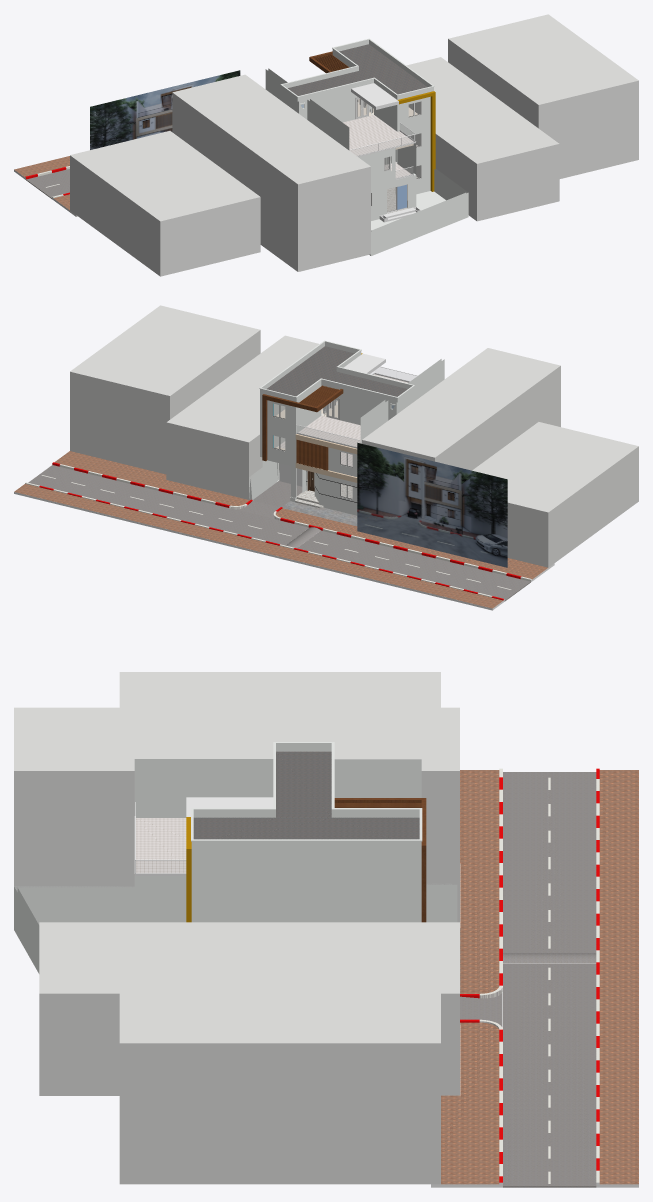
Rendered from house-modern.glb.
The picture shows the model from 3 angles, top to bottom: view 1: azimuth 30°, elevation 25°; view 2: azimuth 150°, elevation 25°; view 3: azimuth 270°, elevation 25°; orthographic projection. The views are drawn at different scales.
Visible parts, largest first — view 1: Mesh100__auto_36_0, Mesh61_M_005_0, Mesh58_Groundcover_Bark_Chips_0, Mesh142_White_Square_Tile_0, Mesh143_Concrete_Aggregate_Smoke_0, Mesh34_Pavers_Driveway_Brick_0, Mesh104_Translucent_Glass_Gray_0, Mesh100__auto_33_0, Mesh11_Wood_Veneer_01_0; view 2: Mesh100__auto_36_0, Mesh61_M_005_0, Mesh143_Concrete_Aggregate_Smoke_0, Mesh34_Pavers_Driveway_Brick_0, Mesh58_Groundcover_Bark_Chips_0, Mesh11_Wood_Veneer_01_0, Mesh142_White_Square_Tile_0, Mesh143_Pavers_Flagstone_Gray_0, Mesh100__auto_33_0, Mesh104_Translucent_Glass_Gray_0, Mesh143_Marble_Carrara_Gold_Floor_Tile_0; view 3: Mesh100__auto_36_0, Mesh143_Concrete_Aggregate_Smoke_0, Mesh34_Pavers_Driveway_Brick_0, Mesh58_Groundcover_Bark_Chips_0, Mesh142_White_Square_Tile_0, Mesh11_Wood_Veneer_01_0.
Boxes of the visible parts, x1,y1,x2,y2 form: Mesh100__auto_36_0: (14,14,638,276); Mesh61_M_005_0: (90,70,240,149); Mesh58_Groundcover_Bark_Chips_0: (288,44,427,95); Mesh142_White_Square_Tile_0: (343,115,417,177); Mesh143_Concrete_Aggregate_Smoke_0: (26,169,69,198); Mesh34_Pavers_Driveway_Brick_0: (14,156,69,209); Mesh104_Translucent_Glass_Gray_0: (358,99,420,211); Mesh100__auto_33_0: (301,104,415,177); Mesh11_Wood_Veneer_01_0: (309,51,349,73); Mesh100__auto_36_0: (14,305,638,610); Mesh61_M_005_0: (357,442,507,567); Mesh143_Concrete_Aggregate_Smoke_0: (28,465,530,601); Mesh34_Pavers_Driveway_Brick_0: (14,451,547,608); Mesh58_Groundcover_Bark_Chips_0: (266,346,407,396); Mesh11_Wood_Veneer_01_0: (262,385,343,470); Mesh142_White_Square_Tile_0: (277,374,408,466); Mesh143_Pavers_Flagstone_Gray_0: (282,501,357,526); Mesh100__auto_33_0: (297,367,416,446); Mesh104_Translucent_Glass_Gray_0: (273,400,352,498); Mesh143_Marble_Carrara_Gold_Floor_Tile_0: (295,484,352,508); Mesh100__auto_36_0: (14,672,638,1187); Mesh143_Concrete_Aggregate_Smoke_0: (460,772,596,1187); Mesh34_Pavers_Driveway_Brick_0: (441,770,638,1184); Mesh58_Groundcover_Bark_Chips_0: (193,751,419,839); Mesh142_White_Square_Tile_0: (136,818,186,873); Mesh11_Wood_Veneer_01_0: (334,798,426,922).
Size of the model in its own units: 15 by 3.17 by 9.56.
Materials: 13 (13 with a texture image).
